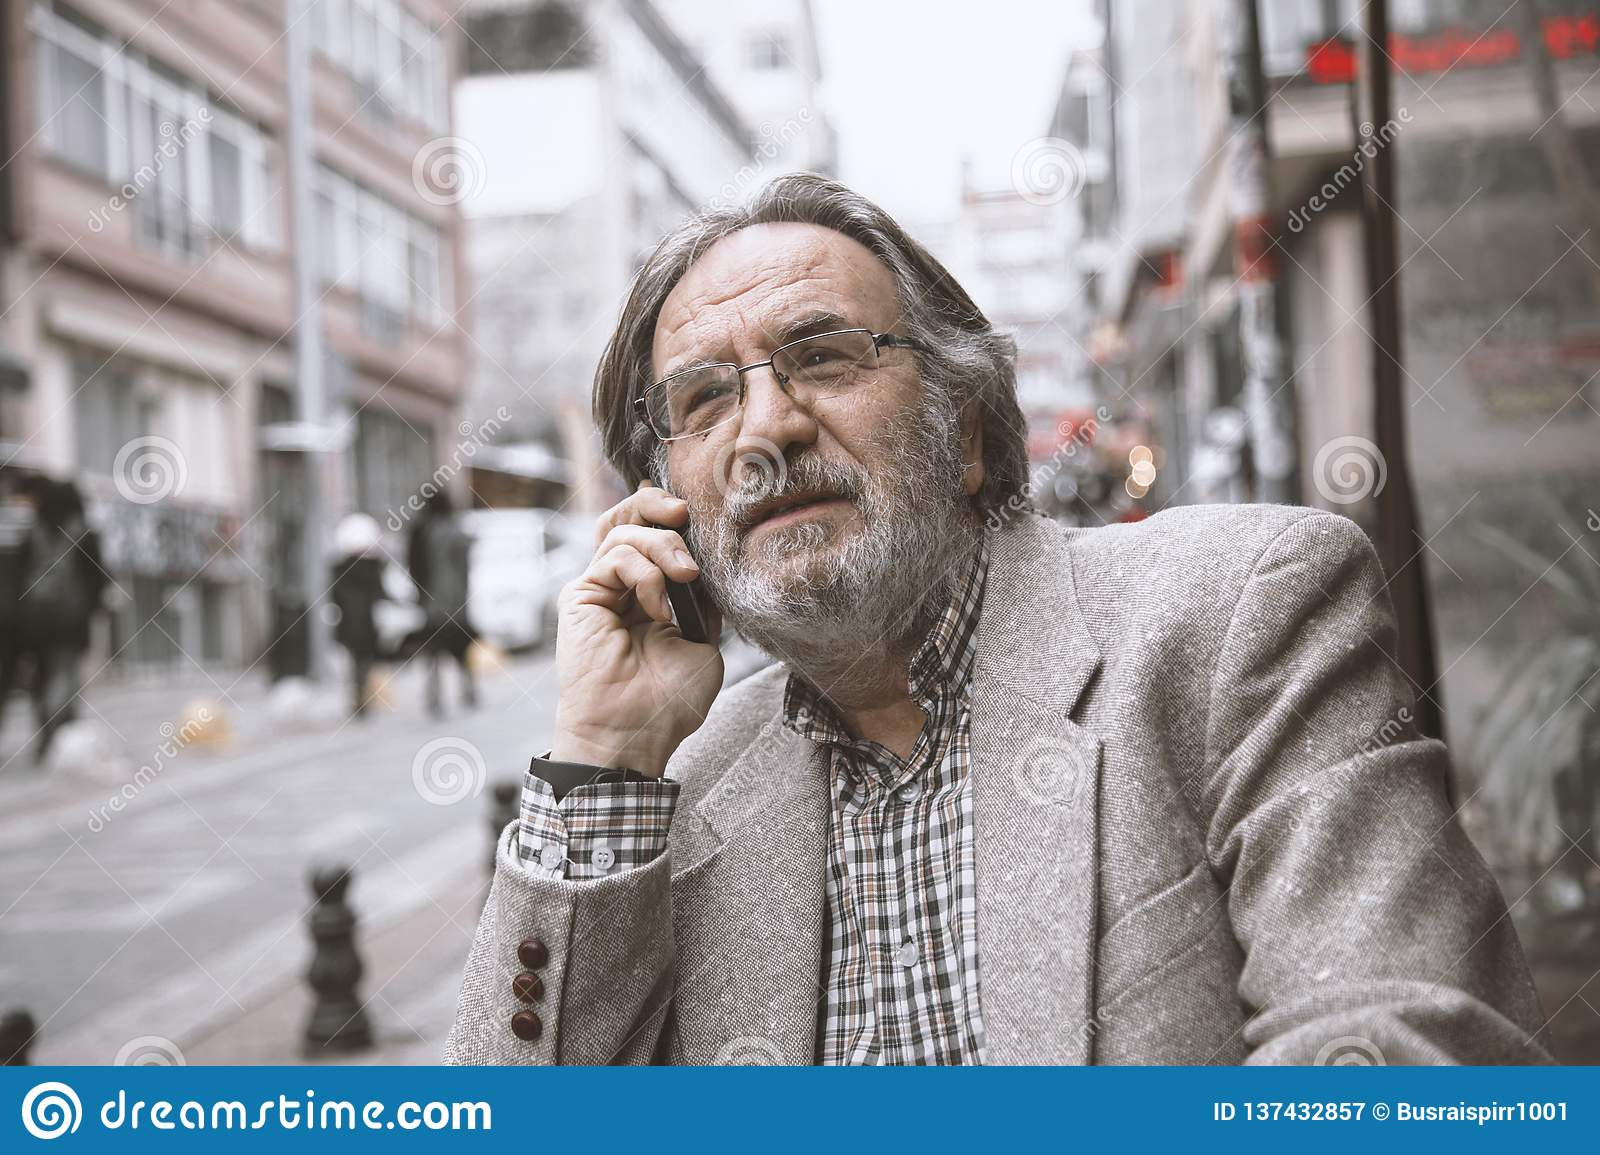phone: (612, 409, 720, 654)
talk: (549, 268, 912, 735)
